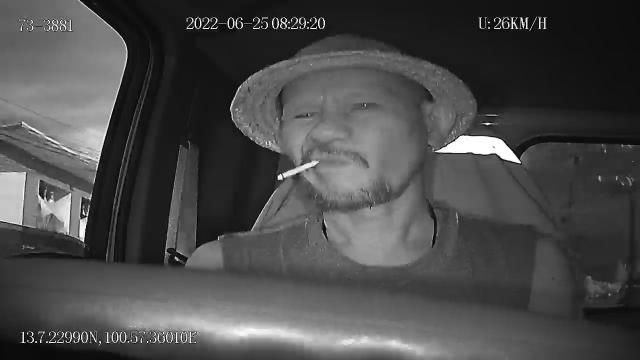SafeDriving: (344, 93, 386, 116), (288, 103, 326, 125)
Smoking: (276, 158, 320, 182)
